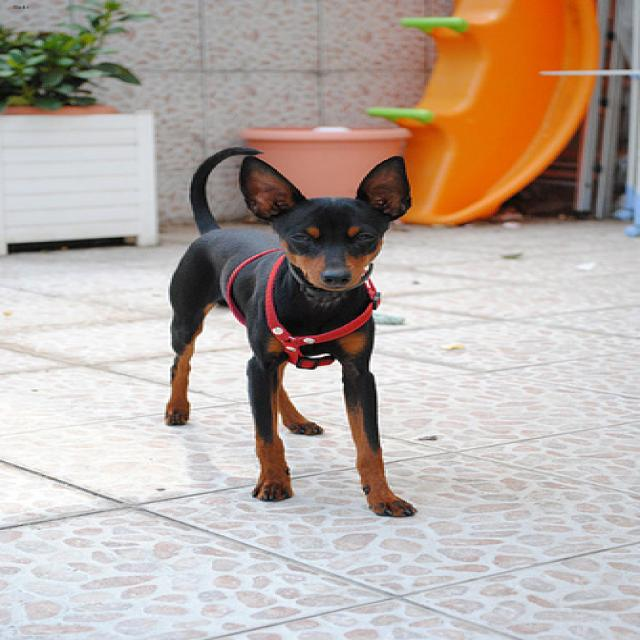dog-miniature_pinscher: (149, 141, 422, 521)
